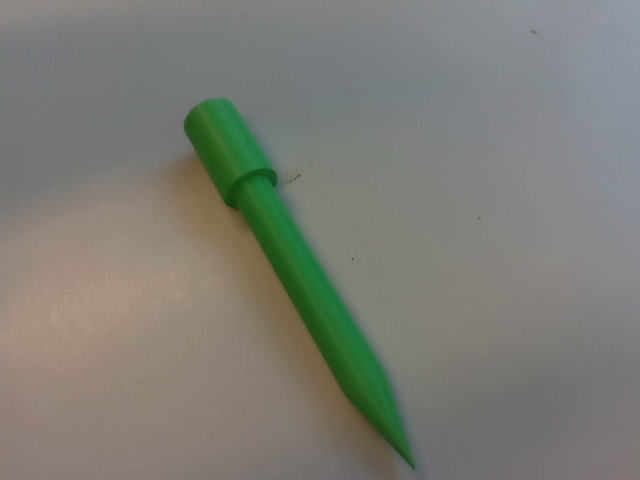Probe: (177, 91, 421, 480)
